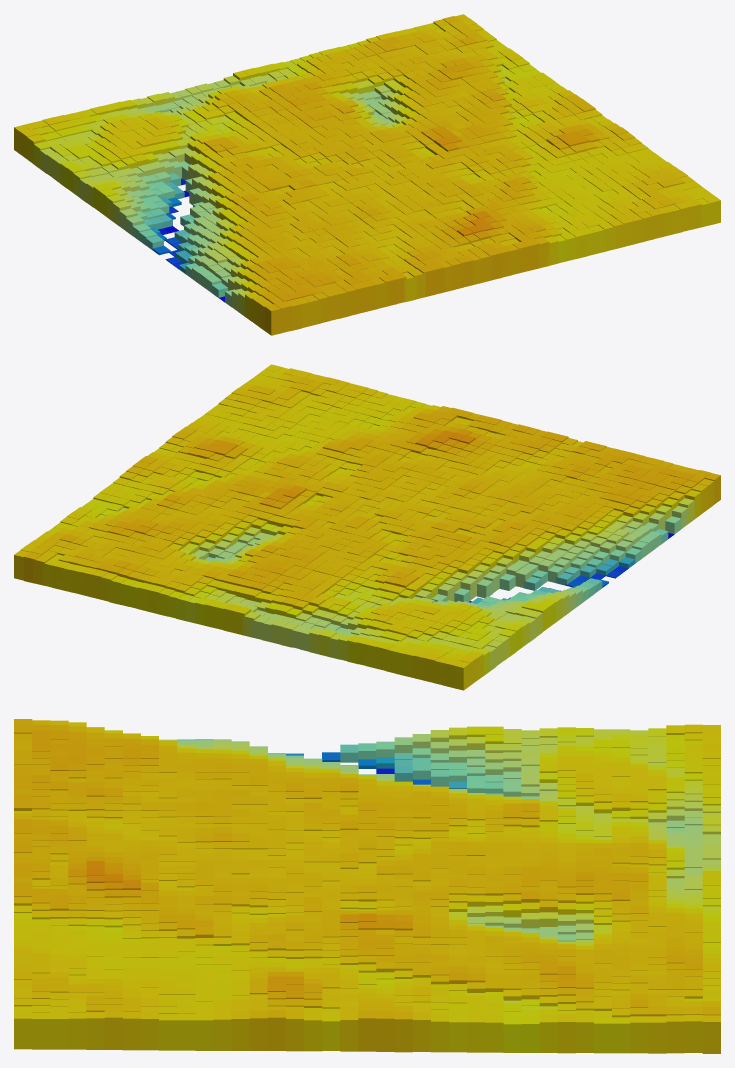
The model's file is population.glb.
The picture shows the model from 3 angles, top to bottom: view 1: azimuth 30°, elevation 25°; view 2: azimuth 150°, elevation 25°; view 3: azimuth 270°, elevation 25°; orthographic projection. The views are drawn at different scales.
Parts seen in each view (by area): view 1: population; view 2: population; view 3: population.
Boxes of the visible parts, x1,y1,x2,y2 form: population: (14,14,720,335); population: (14,364,720,690); population: (14,719,720,1053).
Size of the model in its own units: 3902 by 255 by 3867.
